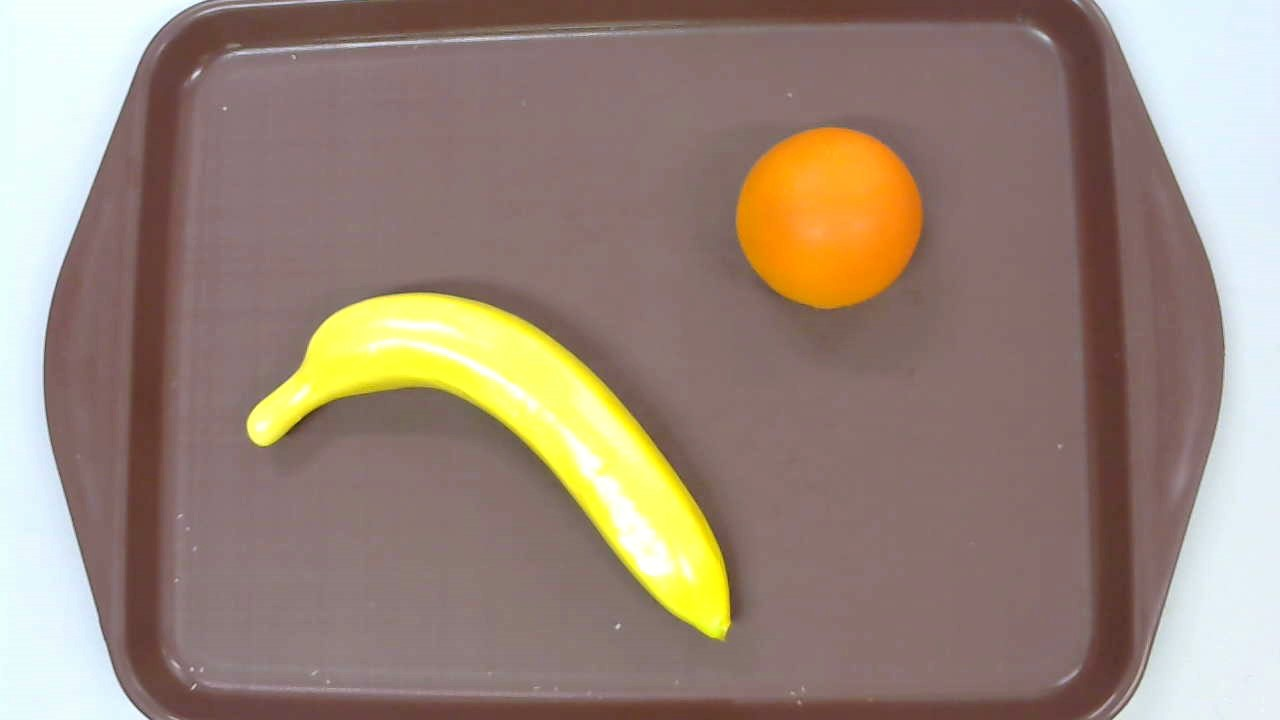banana: (246, 292, 732, 642)
bun: (735, 126, 922, 309)
